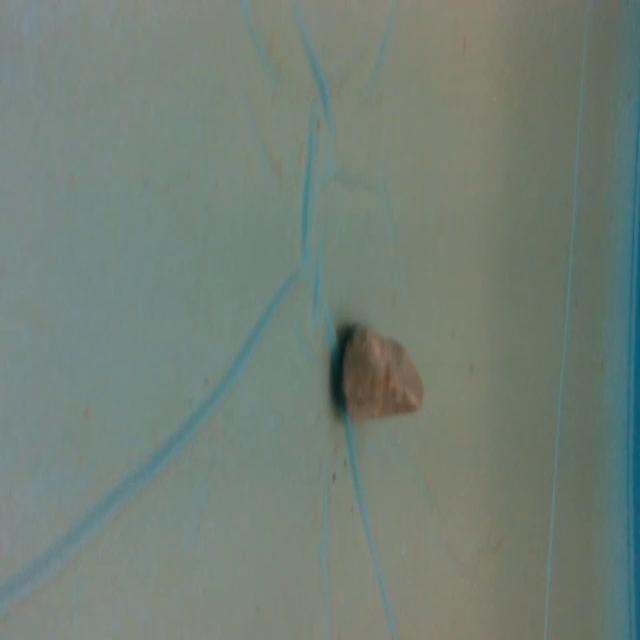rock: (329, 319, 427, 432)
